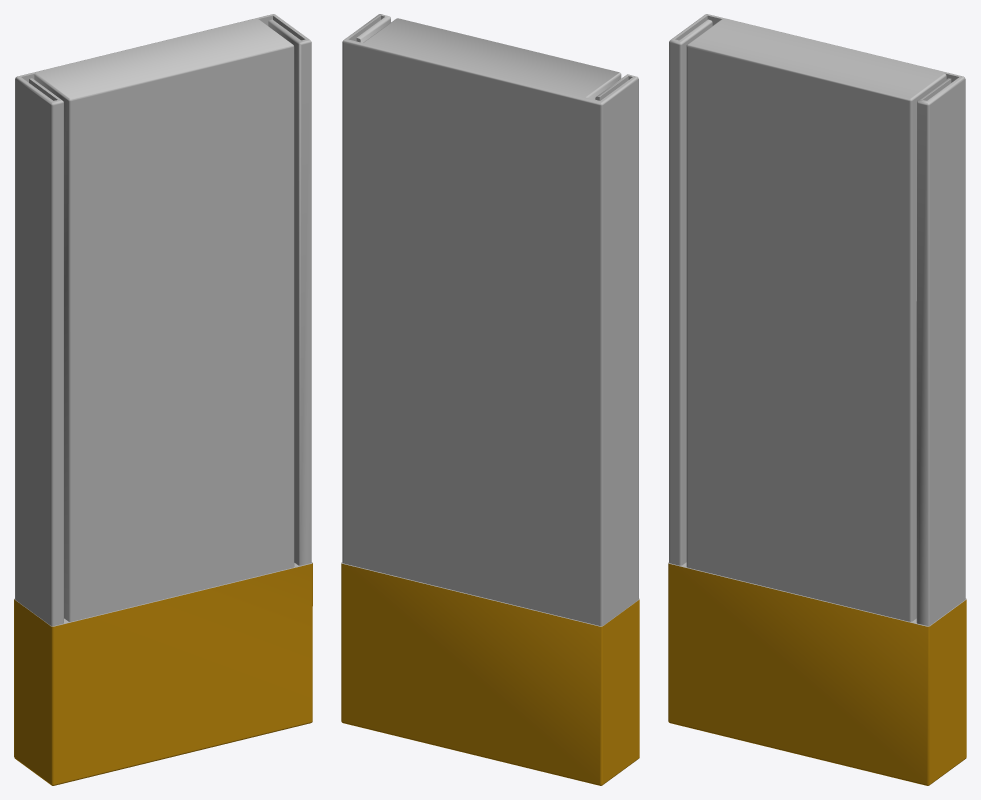
File: battery.glb
The picture shows the model from 3 angles, left to right: view 1: azimuth 30°, elevation 25°; view 2: azimuth 150°, elevation 25°; view 3: azimuth 330°, elevation 25°; orthographic projection.
Size of the model in its own units: 0.012 by 0.03 by 0.0031.
